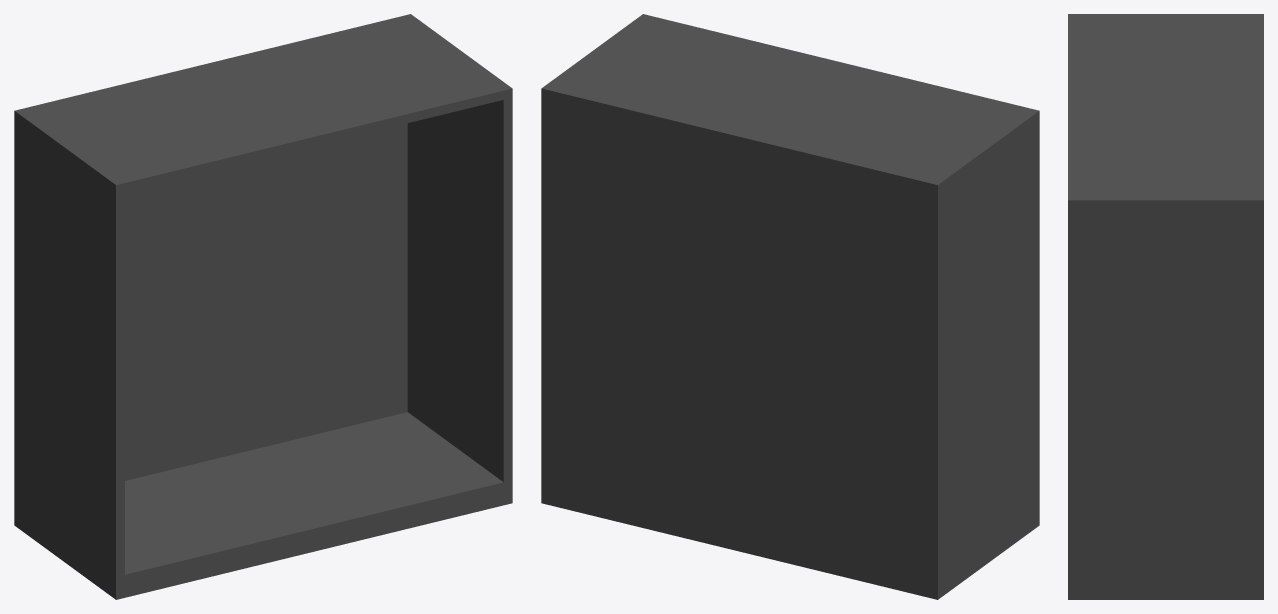
Rendered from Dresser1_C2.fbx.
3 renders of one model, left to right at view 1: azimuth 30°, elevation 25°; view 2: azimuth 150°, elevation 25°; view 3: azimuth 270°, elevation 25°, orthographic. The views are drawn at different scales.
Parts seen in each view (by area): view 1: Dresser1_C2; view 2: Dresser1_C2; view 3: Dresser1_C2.
Part boxes in pixels (x1,y1,x2,y2): Dresser1_C2: (14,14,512,599); Dresser1_C2: (541,14,1039,599); Dresser1_C2: (1068,14,1263,599).
Bounding box in the file's own units: 90 × 90 × 40.
